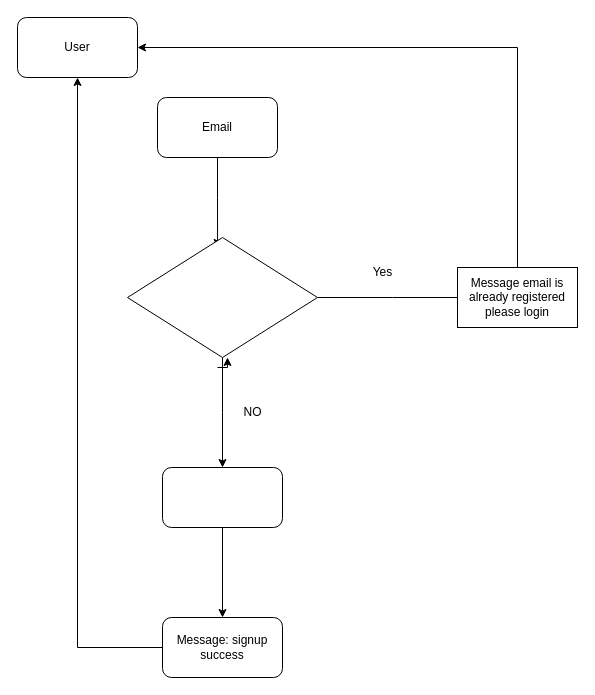
Some shapes in this 595 by 695 pixel diagram are drawn without their labels. Here are the shapes that lost their labels. From the top down, the centre of each, then its label:
At (222,297): "if email is already registered".
At (222,497): "store the data".
